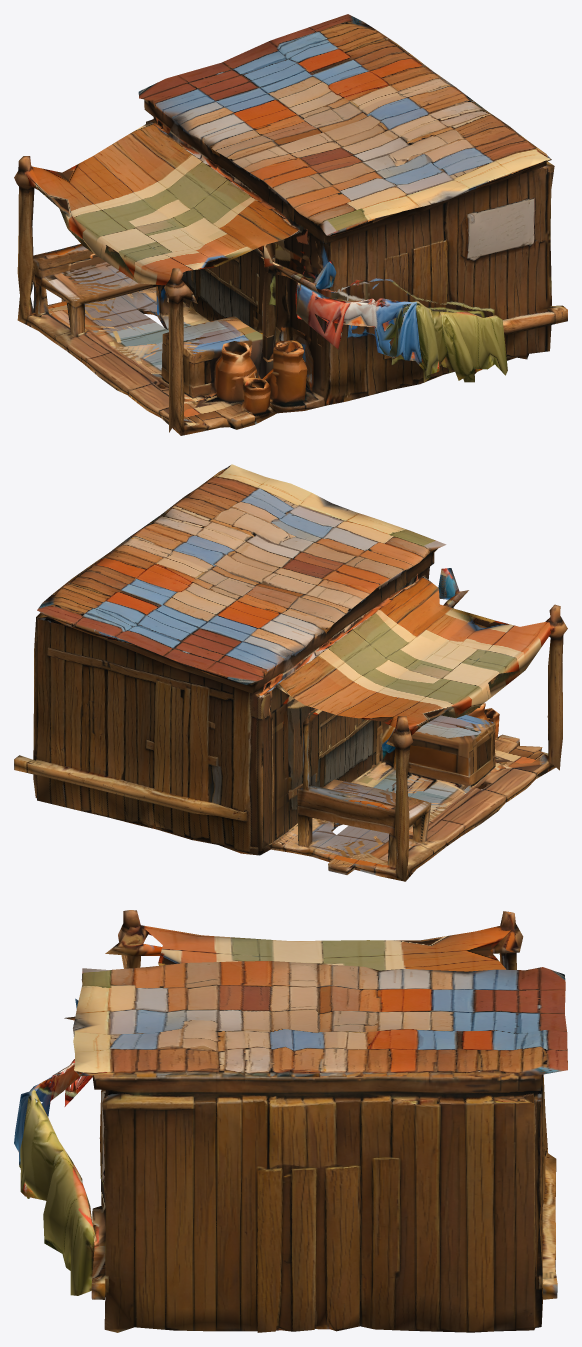
File: Settle_Shanty_Awning.fbx
3 views of the same model, one above another, from view 1: azimuth 30°, elevation 25°; view 2: azimuth 150°, elevation 25°; view 3: azimuth 270°, elevation 25° (orthographic). The views are drawn at different scales.
Visible parts, largest first — view 1: texture_mapping; view 2: texture_mapping; view 3: texture_mapping.
Boxes of the visible parts, box(x1,y1,x2,y2) form: texture_mapping: box(14, 14, 567, 435); texture_mapping: box(14, 464, 567, 881); texture_mapping: box(14, 910, 567, 1332).
Bounding box in the file's own units: 0.9828 × 0.9894 × 0.5121.
1 material, 1 textured.
